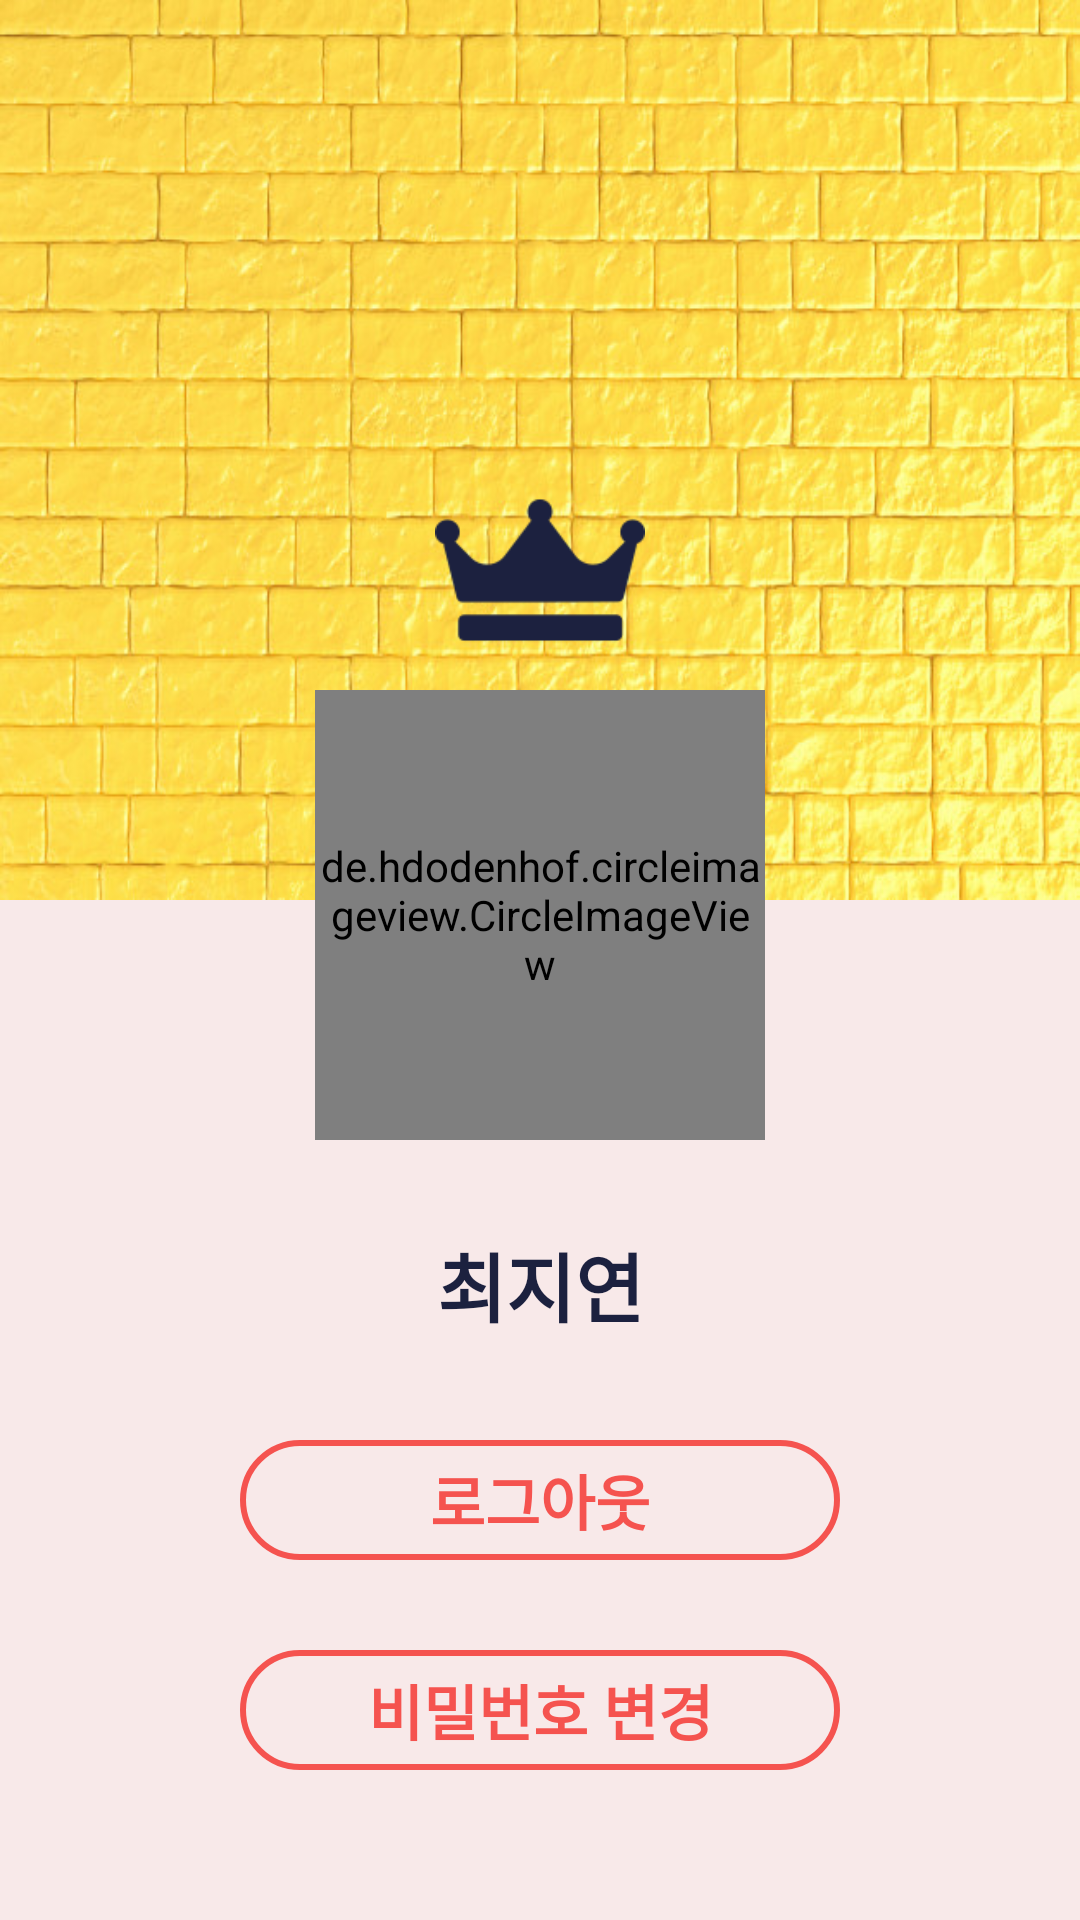

Icon click points for this 1080 × 1920 phone screenshot, format (x=x, y=y):
bluecrown: (x=540, y=570)
